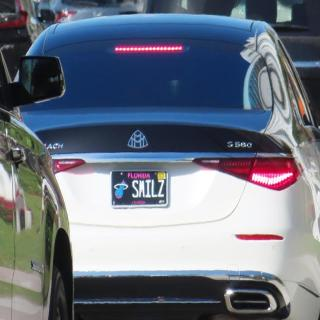license: (110, 171, 169, 209)
